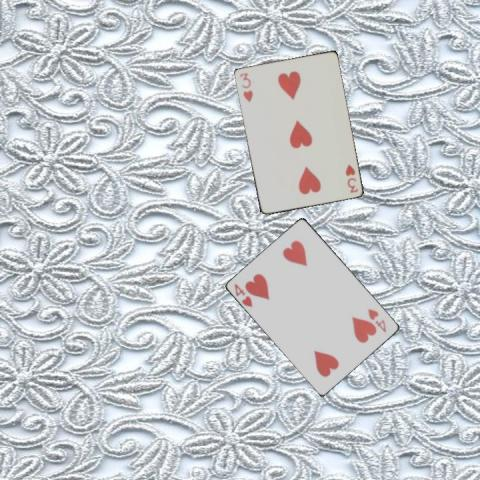3h: (237, 70, 254, 104), (342, 161, 359, 194)
4h: (365, 306, 388, 334), (231, 280, 254, 308)
